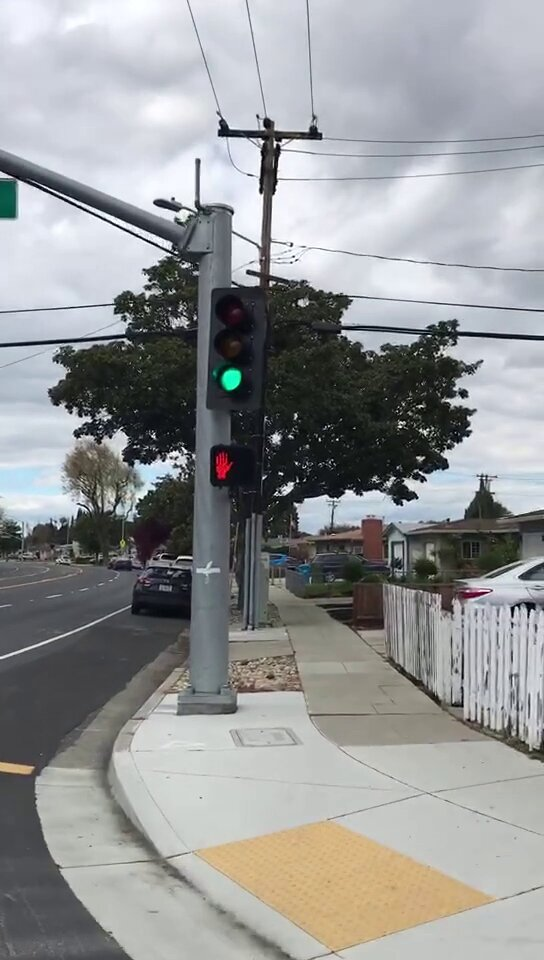green_light: (210, 289, 263, 409)
